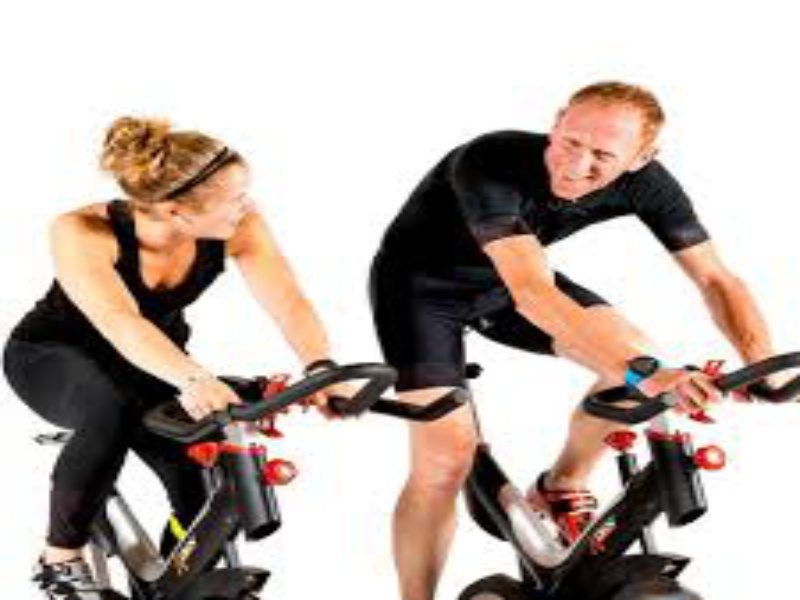TsisyArotava: (548, 80, 636, 209)
